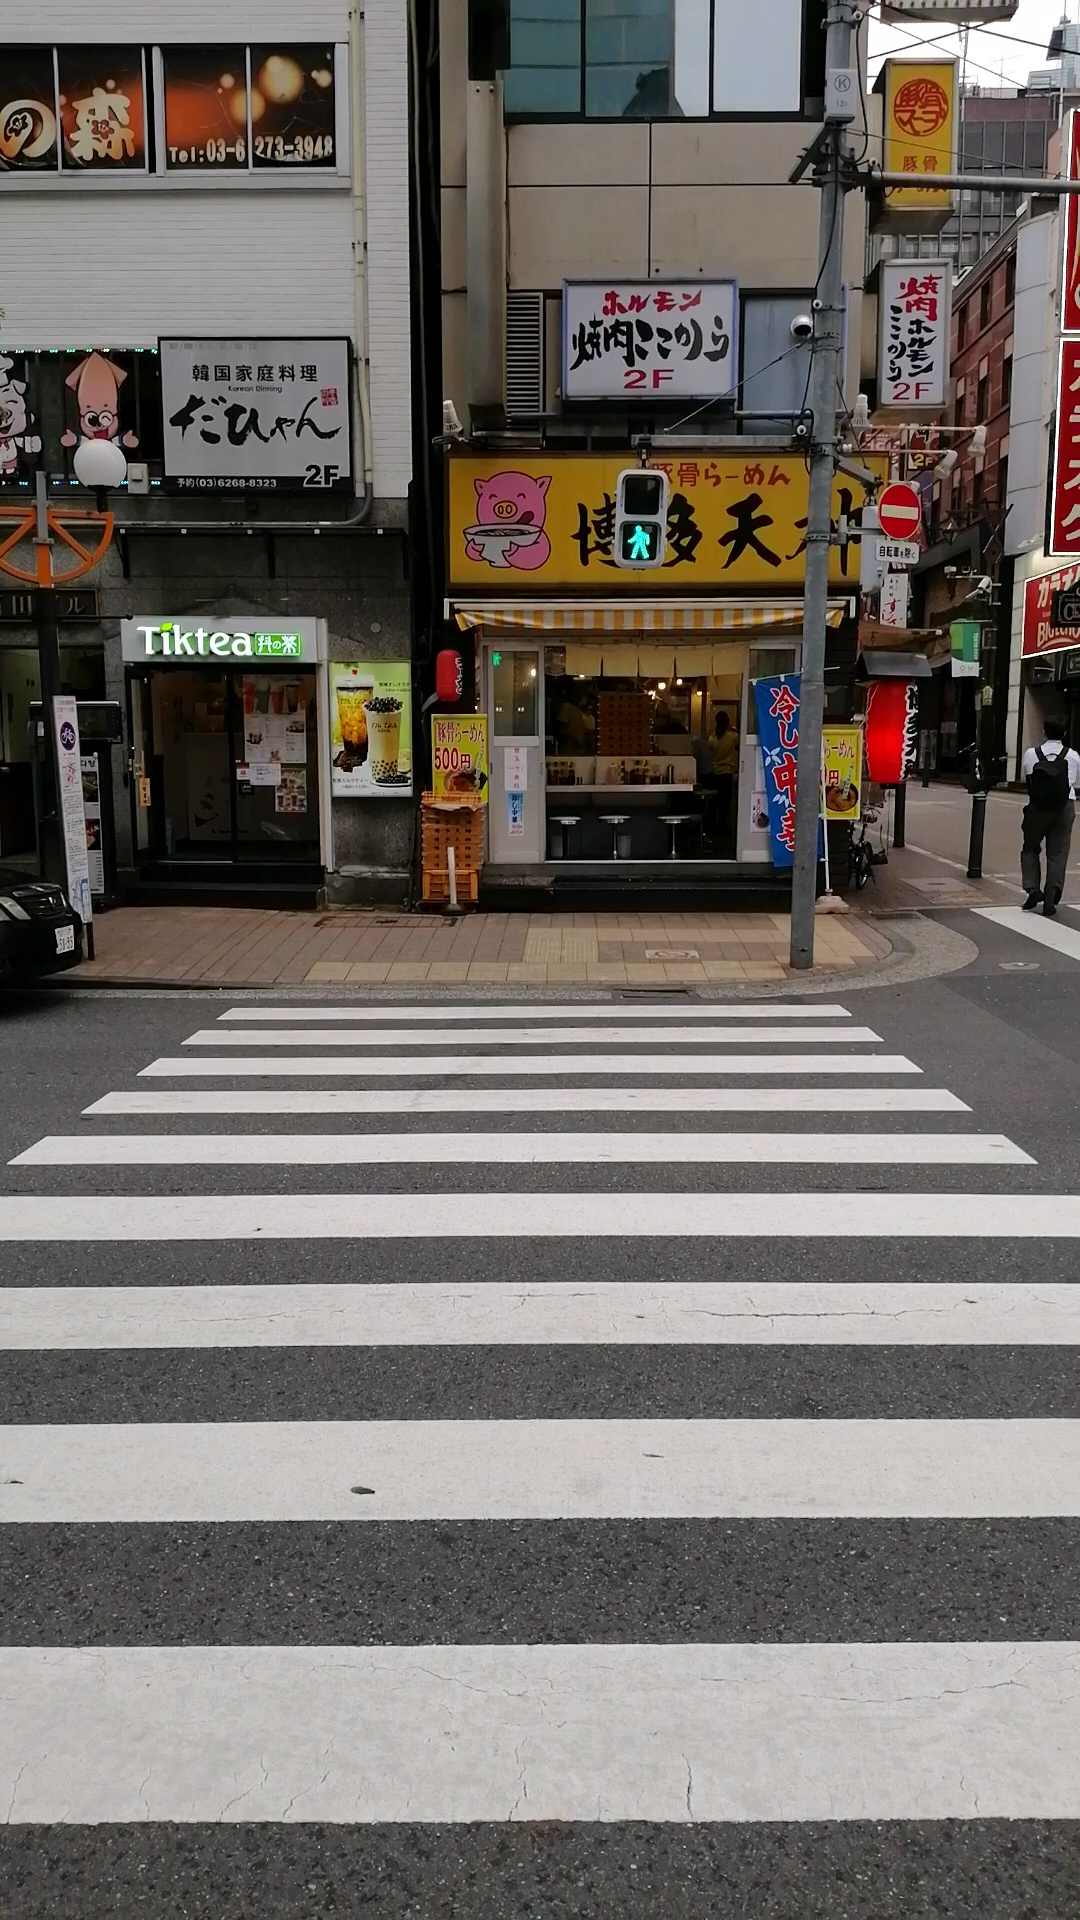green: (615, 469, 665, 570)
